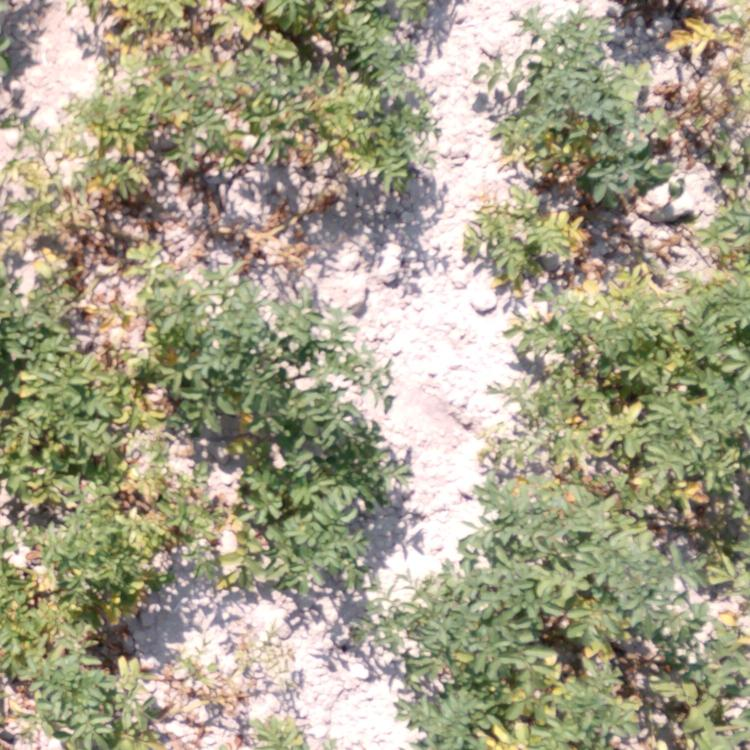healthy: (256, 377, 392, 588), (405, 547, 482, 750), (492, 21, 645, 117), (182, 291, 341, 371), (321, 600, 403, 663)
stressed: (3, 263, 183, 488), (482, 598, 747, 750), (241, 1, 421, 203), (482, 447, 668, 612), (1, 484, 150, 656), (87, 1, 234, 160), (613, 262, 747, 436), (1, 159, 173, 267), (495, 119, 657, 209), (524, 285, 609, 437), (28, 660, 167, 750), (453, 207, 605, 286), (674, 442, 750, 598), (663, 5, 750, 128), (182, 372, 251, 485), (692, 135, 750, 259), (161, 496, 256, 571), (217, 680, 299, 750)
